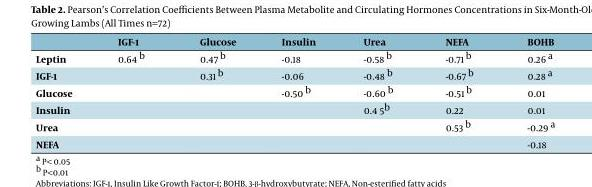table: (35, 35, 554, 149)
table column: (171, 35, 258, 149), (418, 35, 499, 149), (258, 35, 338, 149), (338, 35, 418, 149), (94, 35, 171, 149), (35, 35, 94, 149), (499, 35, 554, 149)
table column header: (35, 35, 554, 48)
table row: (35, 116, 554, 135), (35, 48, 554, 65), (35, 65, 554, 82), (35, 82, 554, 99), (35, 99, 554, 116), (35, 135, 554, 149), (35, 35, 554, 48)
